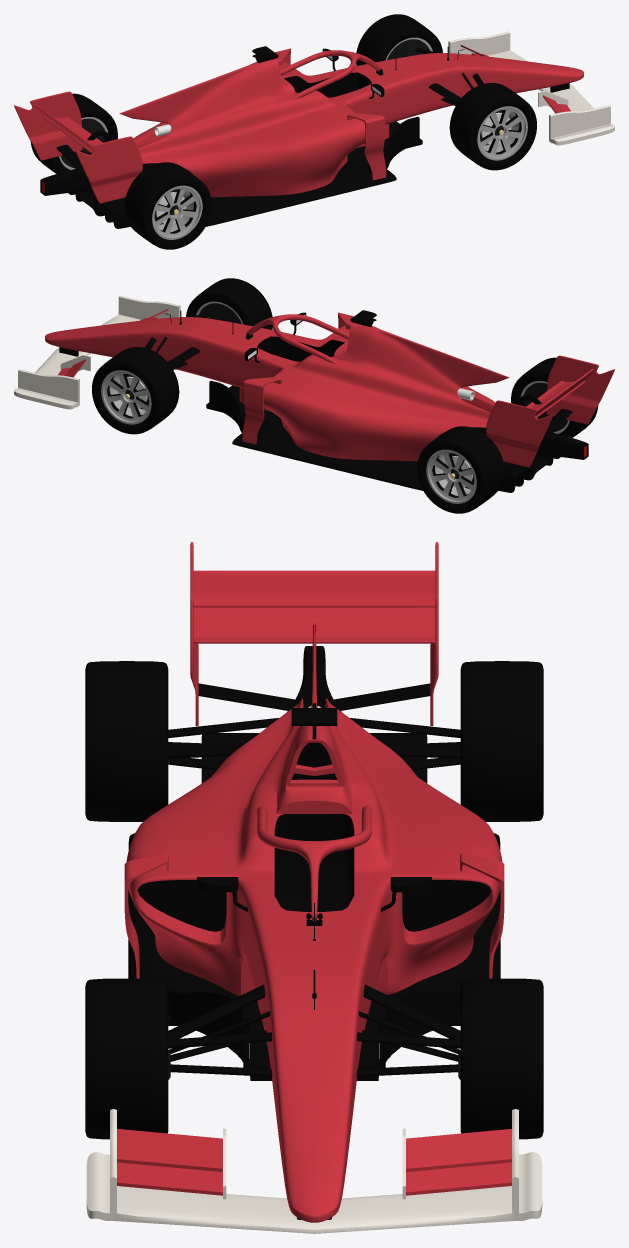
Rendered from formula-2-scarlet-ivory.glb.
3 views of the same model, one above another, from view 1: azimuth 30°, elevation 25°; view 2: azimuth 150°, elevation 25°; view 3: azimuth 270°, elevation 25° (orthographic). The views are drawn at different scales.
Visible parts, largest first — view 1: Cube, Cylinder, Cylinder.003; view 2: Cube, Cylinder, Cylinder.003; view 3: Cube, Cylinder.003, Cylinder.
Part boxes in pixels (left/top/right/bottom): Cube: left=14, top=31, right=614, bottom=228; Cylinder: left=356, top=14, right=536, bottom=170; Cylinder.003: left=30, top=93, right=211, bottom=249; Cube: left=14, top=295, right=614, bottom=492; Cylinder: left=92, top=278, right=272, bottom=434; Cylinder.003: left=417, top=357, right=598, bottom=513; Cube: left=86, top=542, right=542, bottom=1233; Cylinder.003: left=85, top=661, right=543, bottom=821; Cylinder: left=85, top=978, right=543, bottom=1139.
Bounding box in the file's own units: 9.26 × 1.98 × 3.4.
